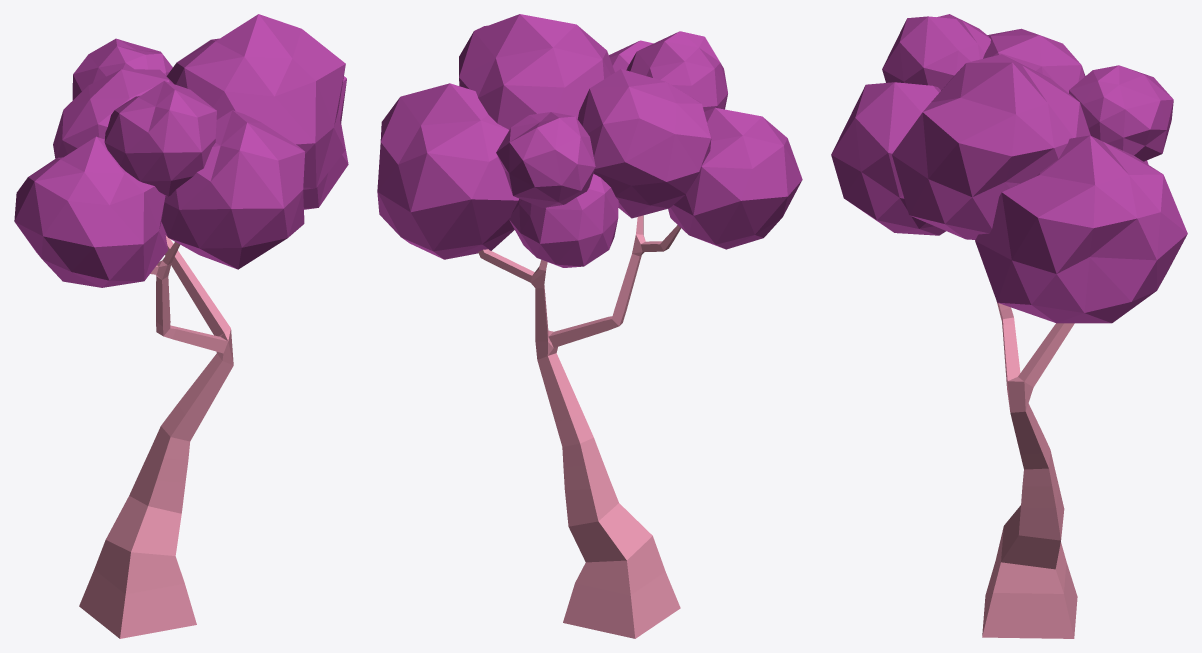
Rendered from oaktree2.fbx.
The picture shows the model from 3 angles, left to right: view 1: azimuth 30°, elevation 25°; view 2: azimuth 150°, elevation 25°; view 3: azimuth 270°, elevation 25°; orthographic projection. The views are drawn at different scales.
Visible parts, largest first — view 1: oak_tree2, Icosphere.012, Icosphere.016, Icosphere.013, Icosphere.018, Icosphere.015, Icosphere.017, Icosphere.011; view 2: oak_tree2, Icosphere.011, Icosphere.015, Icosphere.016, Icosphere.012, Icosphere.017, Icosphere.014, Icosphere.018, Icosphere.013; view 3: Icosphere.011, Icosphere.016, oak_tree2, Icosphere.013, Icosphere.017, Icosphere.018, Icosphere.015.
Boxes of the visible parts, x1,y1,x2,y2 form: oak_tree2: (79, 235, 233, 638); Icosphere.012: (14, 136, 167, 287); Icosphere.016: (166, 14, 345, 189); Icosphere.013: (161, 110, 304, 269); Icosphere.018: (104, 81, 216, 196); Icosphere.015: (53, 69, 173, 158); Icosphere.017: (72, 38, 172, 100); Icosphere.011: (303, 76, 348, 209); oak_tree2: (478, 215, 680, 638); Icosphere.011: (377, 83, 518, 259); Icosphere.015: (577, 69, 711, 218); Icosphere.016: (459, 14, 614, 129); Icosphere.012: (668, 107, 802, 249); Icosphere.017: (496, 112, 595, 208); Icosphere.014: (509, 174, 618, 267); Icosphere.018: (626, 31, 727, 111); Icosphere.013: (609, 40, 653, 72); Icosphere.011: (975, 135, 1187, 323); Icosphere.016: (892, 54, 1090, 239); oak_tree2: (982, 302, 1077, 638); Icosphere.013: (831, 82, 945, 235); Icosphere.017: (1069, 65, 1173, 161); Icosphere.018: (882, 14, 990, 90); Icosphere.015: (983, 28, 1085, 92).
Size of the model in its own units: 646 by 992 by 522.
